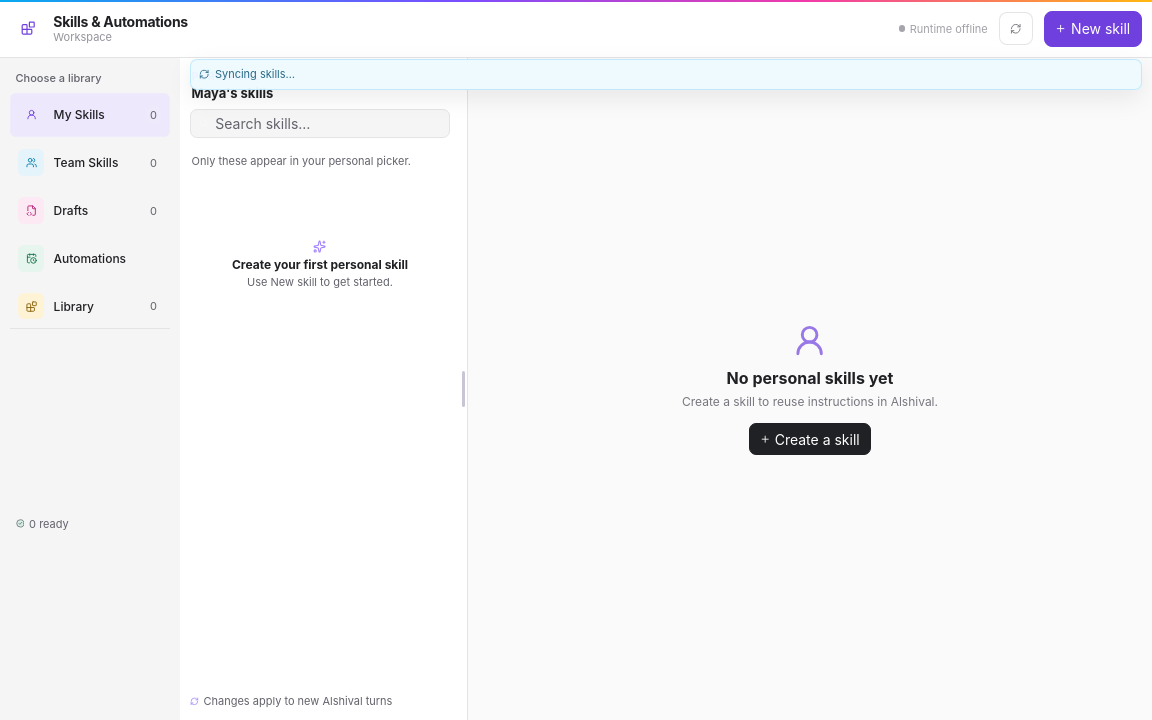
Skills live app › loads and renders the real SKILL.md when an installed skill is selected
Step 1. Click the button "Library 0" → (90, 306), box x1=10 y1=284 x2=170 y2=328
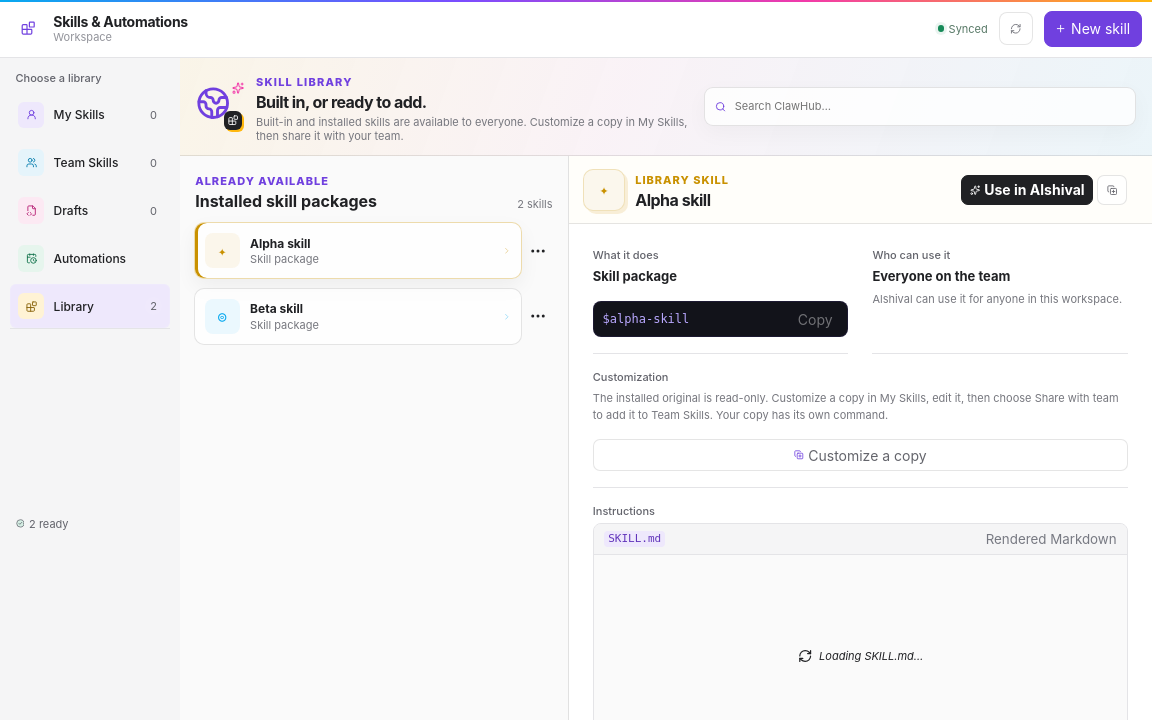
Step 2. Click the button "◎ Beta skill Skill package" → (222, 316), box x1=194 y1=288 x2=522 y2=345
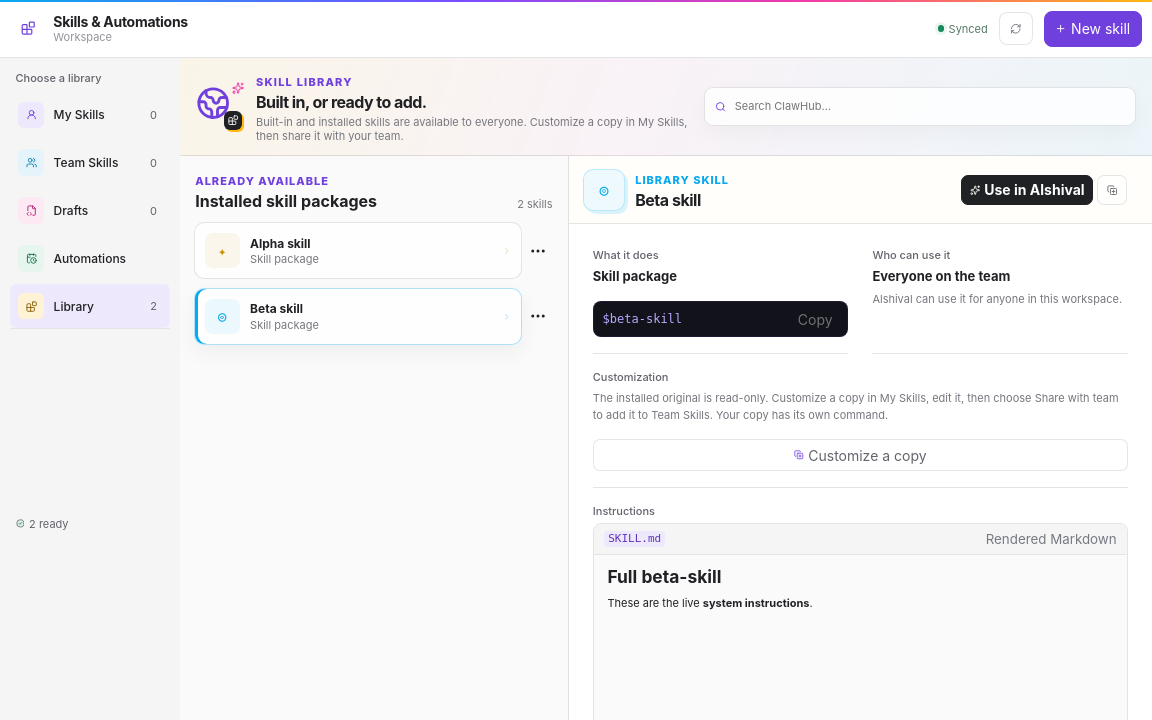
Result: the heading "Full beta-skill" is shown at x1=607 y1=566 x2=721 y2=587
